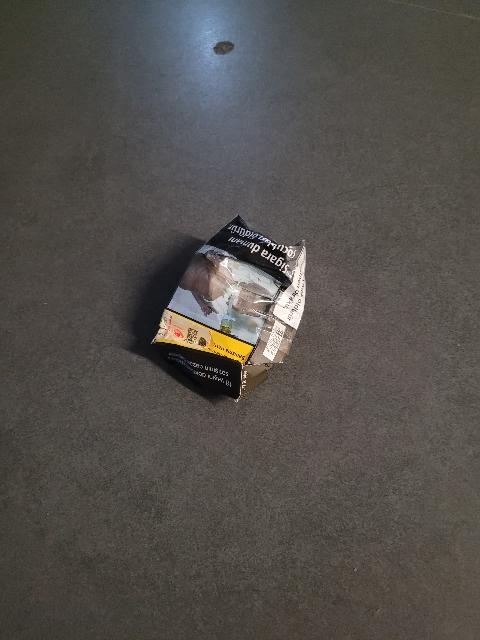Plastik: (154, 188, 325, 425)
